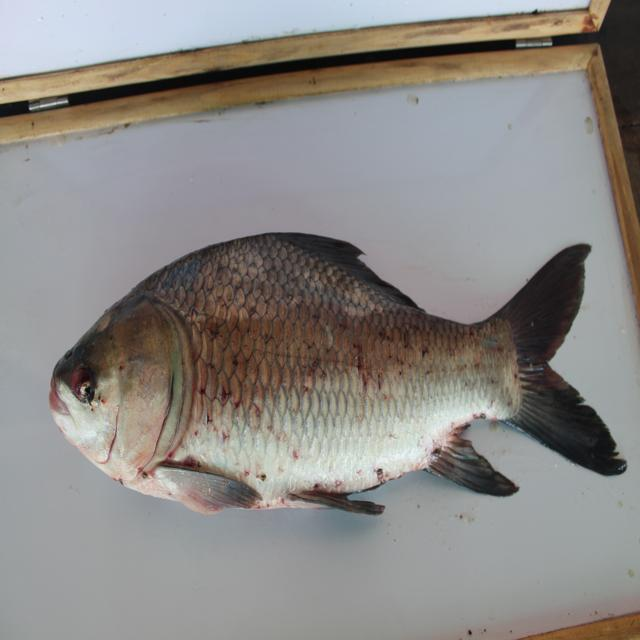Catla: (26, 227, 635, 519)
